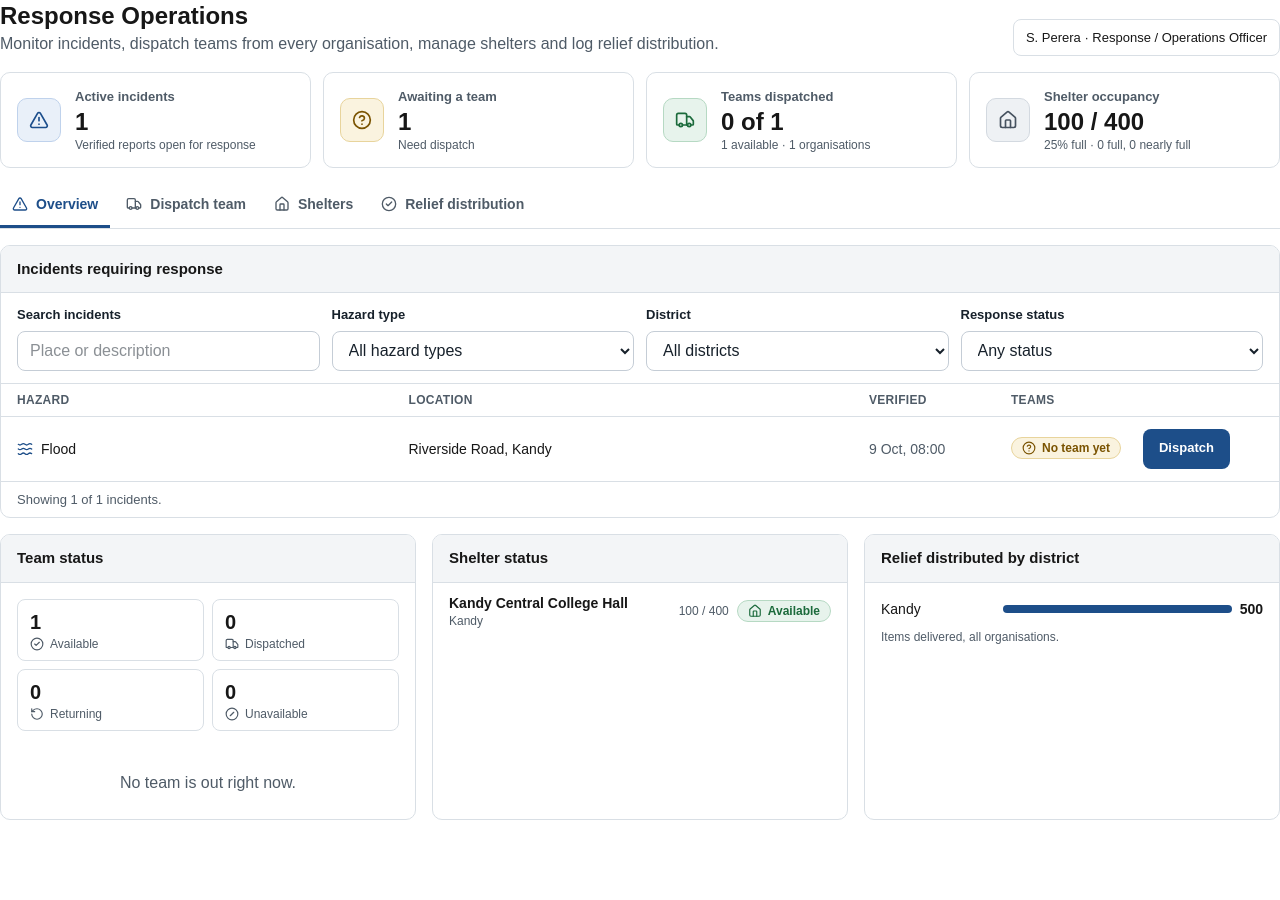
Test case: Dispatch Rescue Team › sends the report, the team and the officer when confirmed
Expected: the text "Active incidents" is shown, top-left (75, 89), bottom-right (175, 104)
Click the tab "Dispatch team" at (186,206), box top-left (114, 184), bottom-right (258, 228)
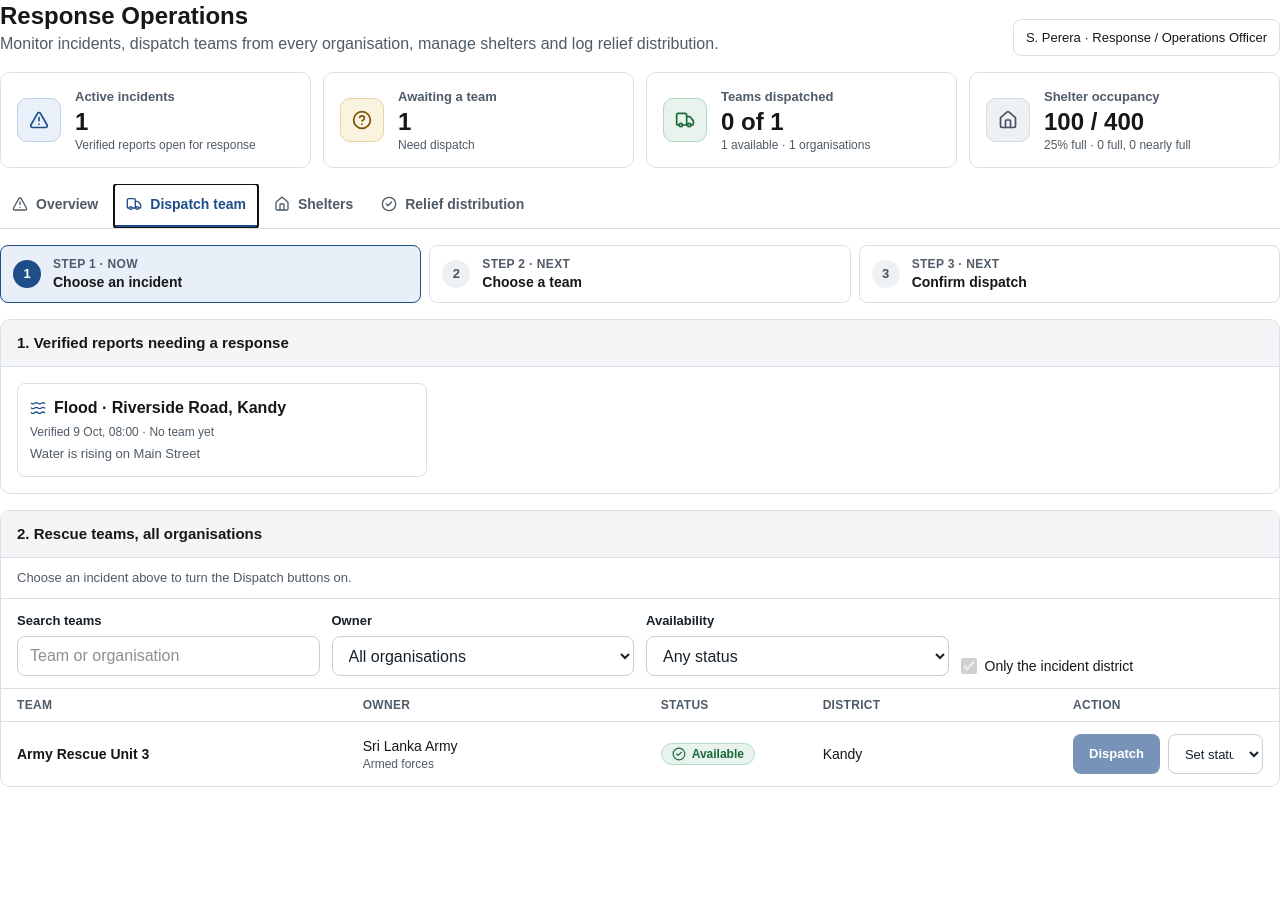
Click the radio button labelled "Flood" at (76,408), box top-left (17, 383), bottom-right (427, 476)
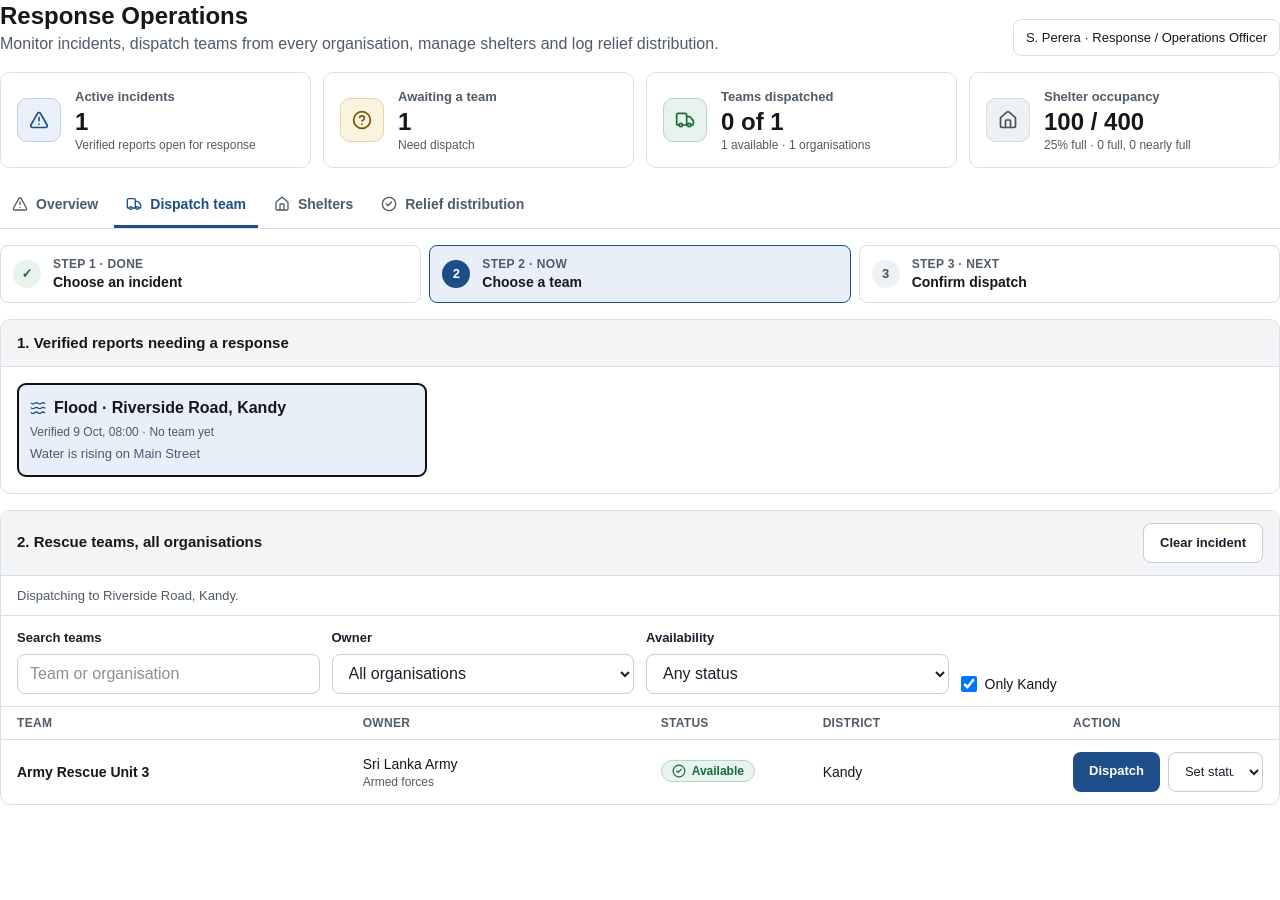
Click the button "Dispatch" at (1116,772), box top-left (1073, 752), bottom-right (1160, 792)
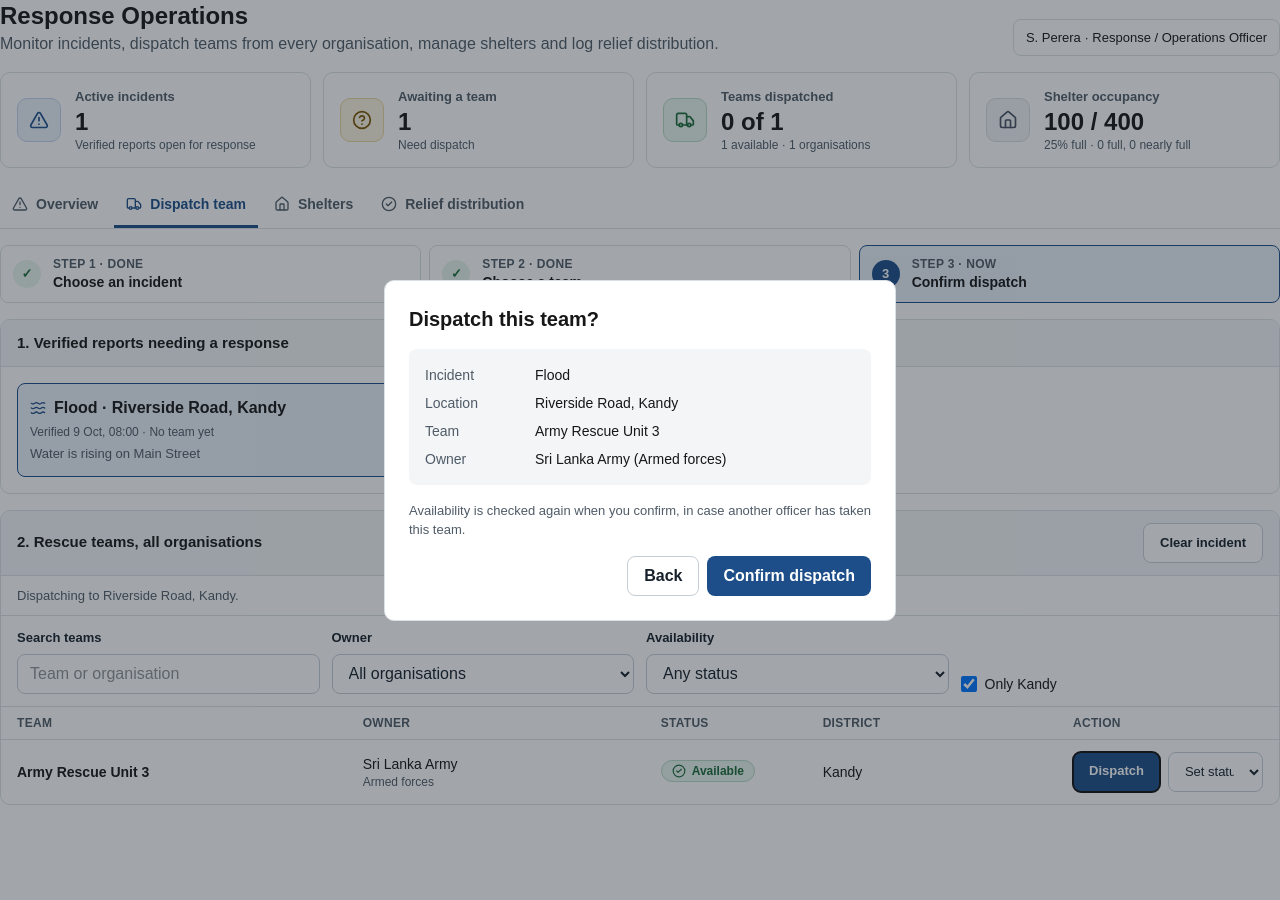
Click the button "Confirm dispatch" at (789,576), box top-left (707, 556), bottom-right (871, 596)
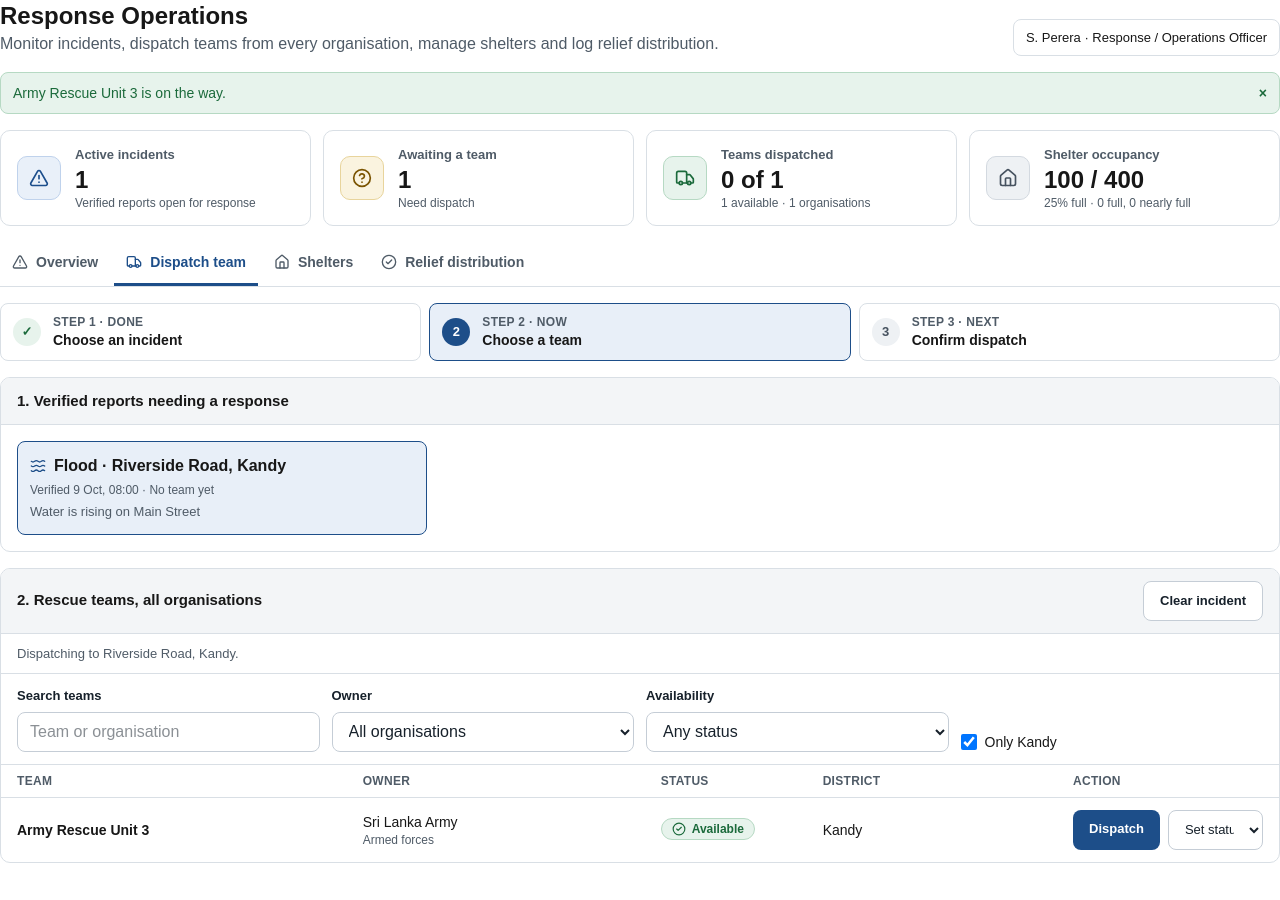
Expected: the text "Army Rescue Unit 3 is on the way." is shown, top-left (13, 85), bottom-right (226, 101)
